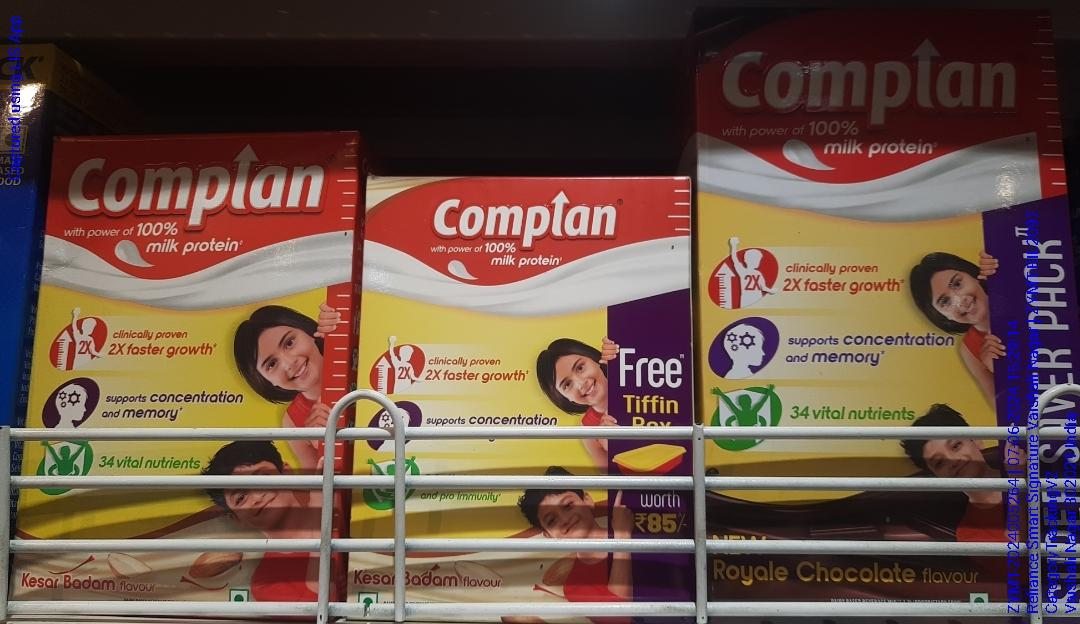COMPLAN_CHOCOLATE_1_KG_PACK: (706, 56, 1080, 617)
COMPLAN_KESAR_BADAM_500_GMS_PACK: (25, 131, 350, 618), (357, 166, 691, 624)
